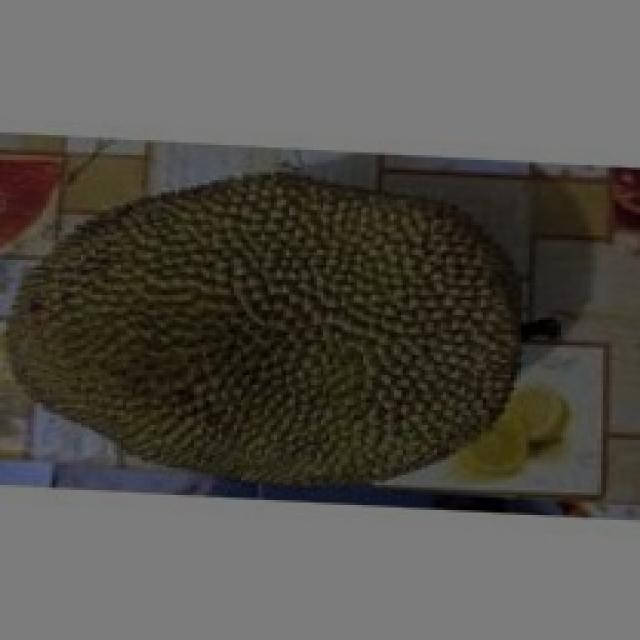Fruit: (185, 158, 563, 498)
